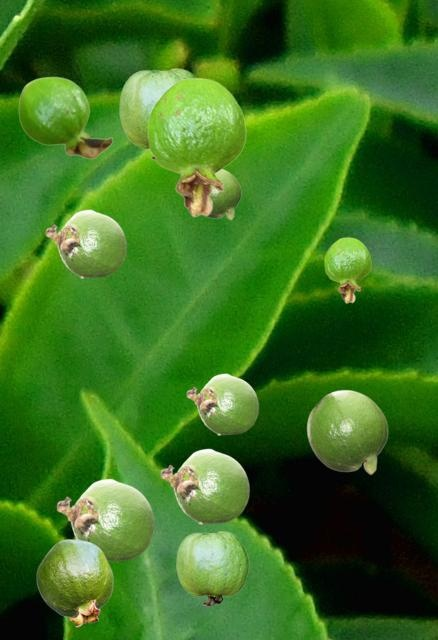guava: (147, 77, 245, 216), (56, 478, 154, 561), (18, 76, 112, 158), (119, 68, 195, 160), (306, 389, 387, 474), (160, 448, 249, 523), (36, 539, 112, 626), (45, 209, 126, 277), (176, 531, 248, 605), (186, 373, 258, 434), (324, 237, 370, 302), (206, 169, 240, 219)
